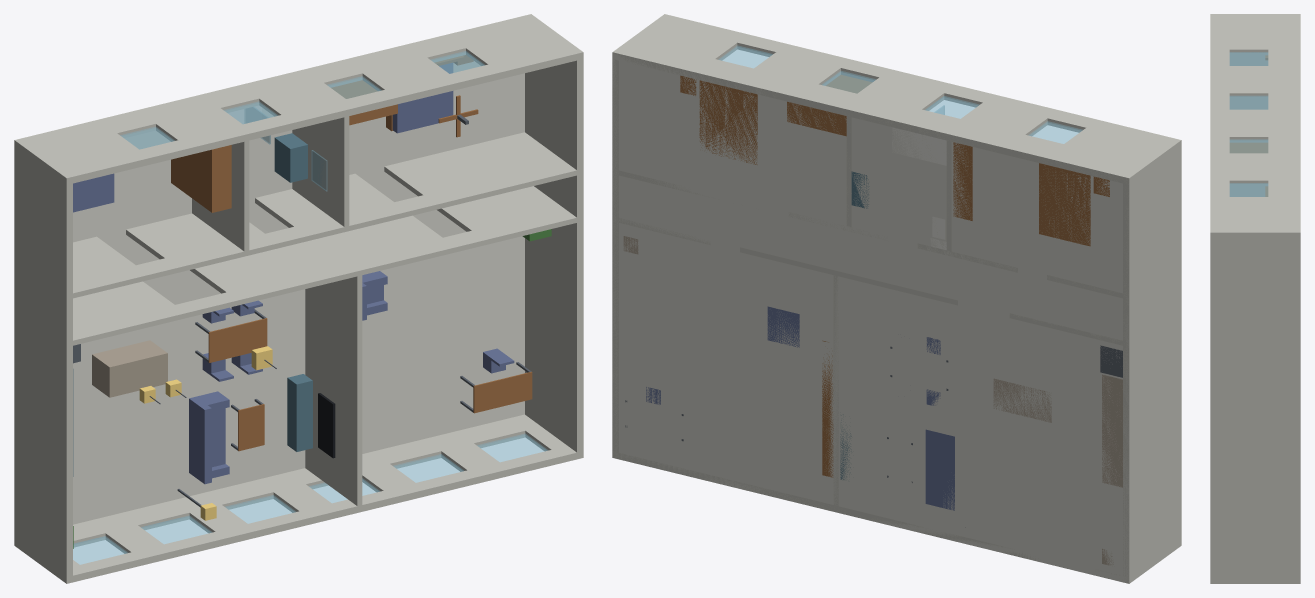
The model's file is apartment.obj.
3 renders of one model, left to right at view 1: azimuth 30°, elevation 25°; view 2: azimuth 150°, elevation 25°; view 3: azimuth 270°, elevation 25°, orthographic. The views are drawn at different scales.
Parts seen in each view (by area): view 1: ground-visual-only, shell-west-end, shell-east-end, hall-south-pier-1, living-study-end, hall-north-end, shell-north-pier-0, shell-north-end, hall-south-end, hall-north-pier-1, hall-south-pier-0, bath-bedroom-end (+49 smaller); view 2: ground-visual-only, shell-west-end, shell-north-pier-0, shell-north-end, shell-north-pier-2, shell-north-pier-1, shell-north-pier-3, bed-2-base, bed-1-base, shell-east-end, counter, sofa-seat (+12 smaller); view 3: shell-east-end, shell-north-end, shell-north-pier-0, shell-north-pier-2, shell-north-pier-1, shell-north-pier-3, shell-north-pane-2, shell-north-sill-0, shell-north-sill-1, shell-north-sill-2, shell-north-sill-3, shell-north-pane-0 (+11 smaller).
Part boxes in pixels (<box>): ground-visual-only: <box>73,61,524,524</box>; shell-west-end: <box>14,147,72,576</box>; shell-east-end: <box>525,59,583,452</box>; hall-south-pier-1: <box>190,215,455,305</box>; living-study-end: <box>305,275,362,506</box>; hall-north-end: <box>384,132,576,209</box>; shell-north-pier-0: <box>14,119,150,184</box>; shell-north-end: <box>447,14,583,79</box>; hall-south-end: <box>437,186,576,245</box>; hall-north-pier-1: <box>126,213,278,272</box>; hall-south-pier-0: <box>73,281,186,345</box>; bath-bedroom-end: <box>292,116,349,226</box>; ground-visual-only: <box>612,52,1129,583</box>; shell-west-end: <box>1123,147,1181,576</box>; shell-north-pier-0: <box>1045,119,1181,184</box>; shell-north-end: <box>613,14,748,78</box>; shell-north-pier-2: <box>838,69,954,129</box>; shell-north-pier-1: <box>942,94,1058,154</box>; shell-north-pier-3: <box>735,44,851,104</box>; bed-2-base: <box>699,80,757,164</box>; bed-1-base: <box>1039,163,1090,246</box>; shell-east-end: <box>612,59,618,452</box>; counter: <box>1102,374,1122,487</box>; sofa-seat: <box>925,429,954,510</box>; shell-east-end: <box>1210,238,1300,577</box>; shell-north-end: <box>1210,197,1300,238</box>; shell-north-pier-0: <box>1210,14,1300,54</box>; shell-north-pier-2: <box>1210,109,1300,142</box>; shell-north-pier-1: <box>1210,66,1300,98</box>; shell-north-pier-3: <box>1210,153,1300,185</box>; shell-north-pane-2: <box>1229,139,1268,153</box>; shell-north-sill-0: <box>1268,49,1300,65</box>; shell-north-sill-1: <box>1268,93,1300,109</box>; shell-north-sill-2: <box>1268,137,1300,153</box>; shell-north-sill-3: <box>1268,180,1300,196</box>; shell-north-pane-0: <box>1229,52,1268,65</box>.
Bounding box in the file's own units: 16 × 12 × 2.8.
